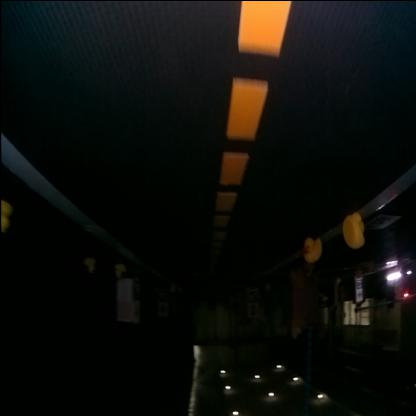Duckie: (342, 215, 364, 246), (303, 236, 321, 262), (1, 201, 12, 232), (113, 264, 126, 278)
